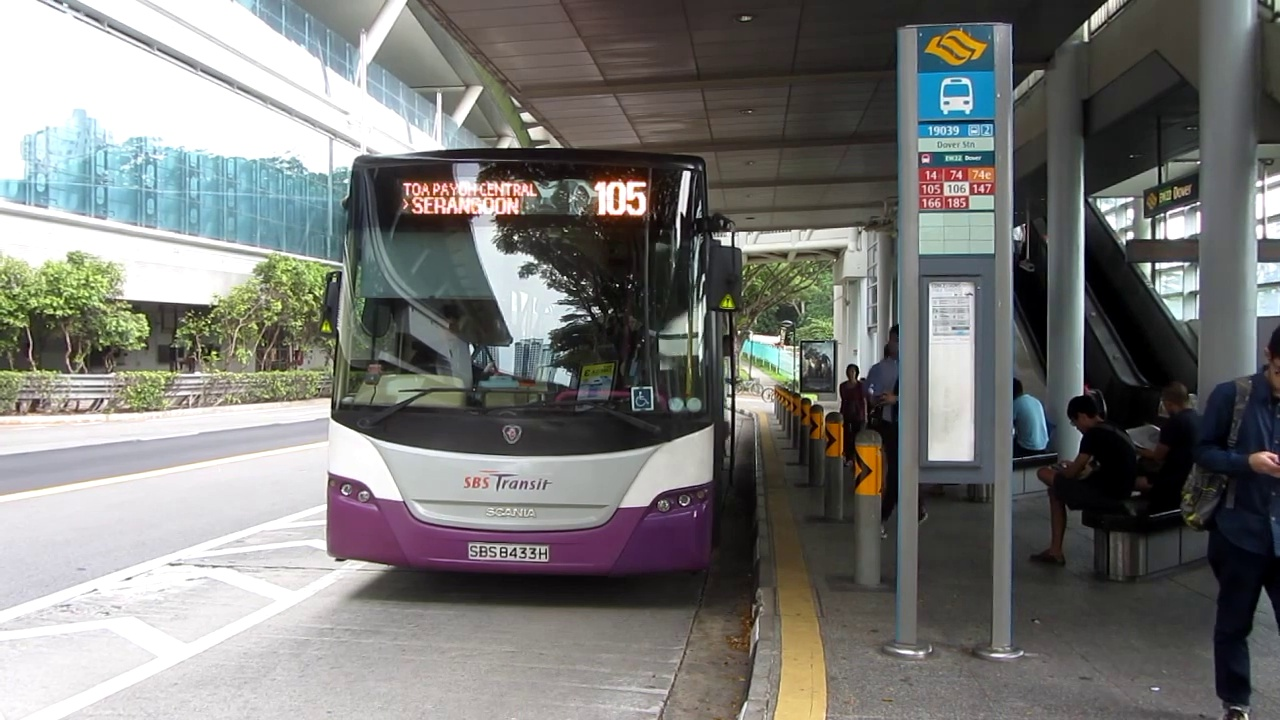bus panel: (396, 177, 651, 218)
